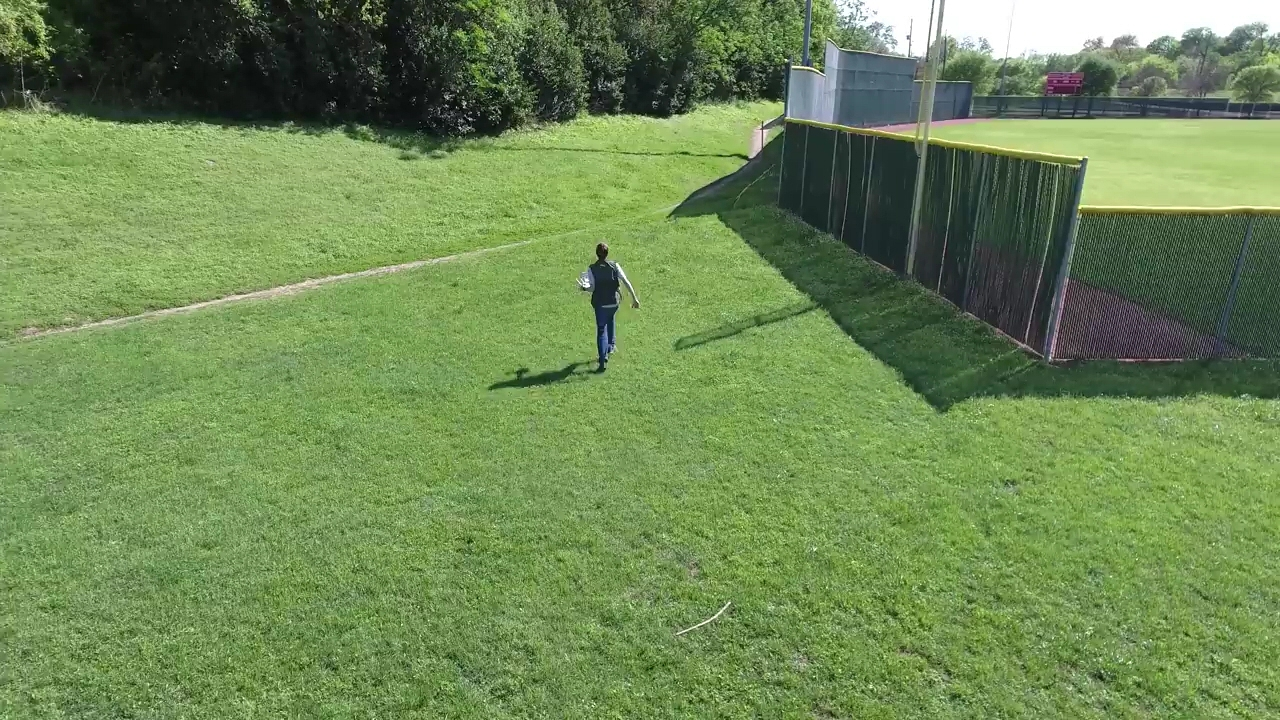insan: (587, 244, 639, 371)
